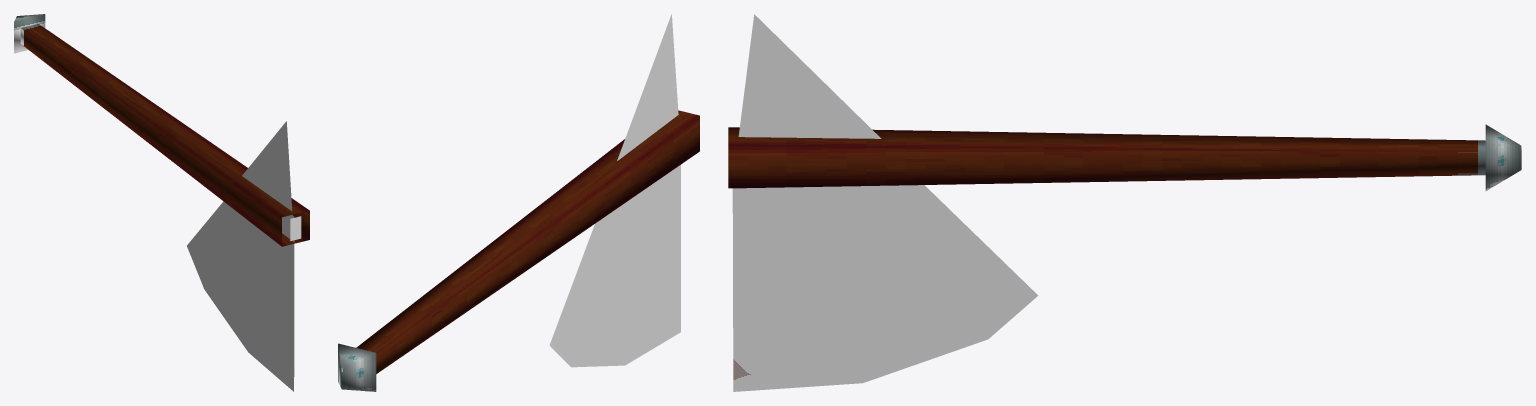
File: Axe.fbx
The picture shows the model from 3 angles, left to right: view 1: azimuth 30°, elevation 25°; view 2: azimuth 150°, elevation 25°; view 3: azimuth 270°, elevation 25°; orthographic projection. The views are drawn at different scales.
Parts seen in each view (by area): view 1: U3DMesh; view 2: U3DMesh; view 3: U3DMesh.
Part boxes in pixels (bbox=[...]): U3DMesh: bbox=[14, 14, 309, 391]; U3DMesh: bbox=[338, 14, 699, 391]; U3DMesh: bbox=[728, 14, 1521, 391].
Bounding box in the file's own units: 0.1292 × 1.05 × 2.
